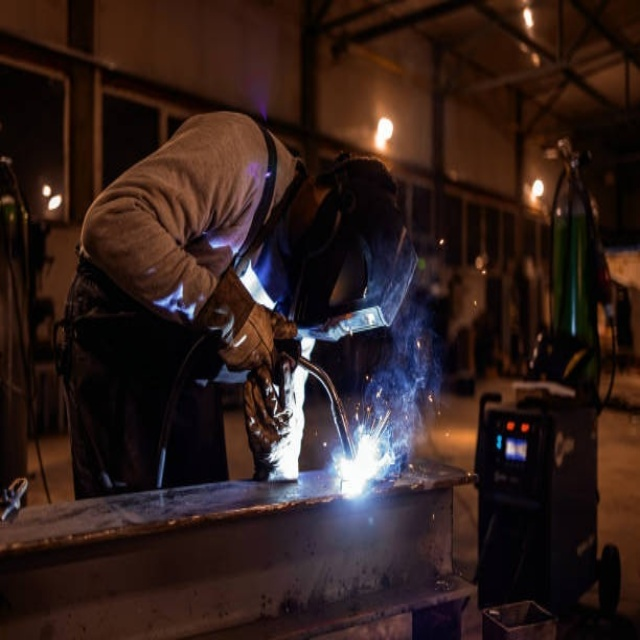Guantes: (194, 263, 290, 377), (242, 358, 300, 477)
